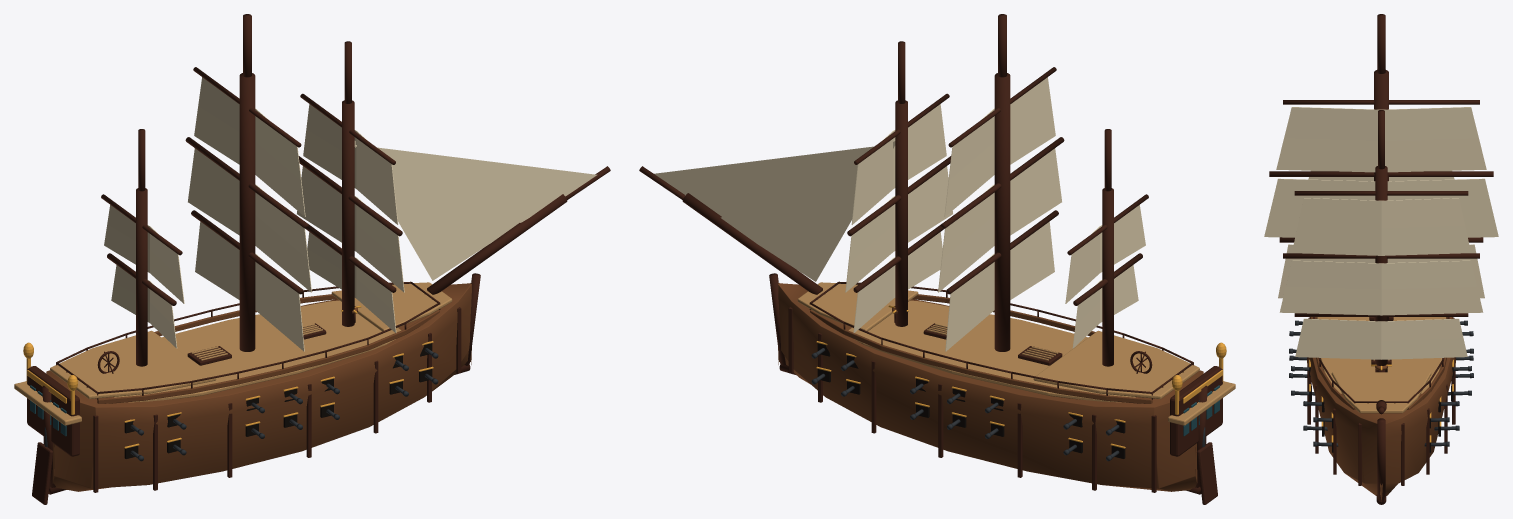
Rendered from AgeOfSailWarship_SecondRate.fbx.
3 renders of one model, left to right at view 1: azimuth 30°, elevation 25°; view 2: azimuth 150°, elevation 25°; view 3: azimuth 270°, elevation 25°, orthographic. The views are drawn at different scales.
Visible parts, largest first — view 1: SecondRate_Hull_Main_Lofted, SecondRate_Deck_Upper_Main, SecondRate_Jib_Inner, SecondRate_Jib_Outer, SecondRate_Deck_Quarterdeck, SecondRate_Main_SquareSail_1, SecondRate_Main_SquareSail_0, SecondRate_Main_SquareSail_2, SecondRate_Main_Mast, SecondRate_Fore_SquareSail_1, SecondRate_Fore_SquareSail_0, SecondRate_Fore_Mast (+14 smaller); view 2: SecondRate_Hull_Main_Lofted, SecondRate_Jib_Inner, SecondRate_Deck_Upper_Main, SecondRate_Jib_Outer, SecondRate_Deck_Quarterdeck, SecondRate_Main_SquareSail_1, SecondRate_Main_SquareSail_0, SecondRate_Main_SquareSail_2, SecondRate_Main_Mast, SecondRate_Fore_SquareSail_1, SecondRate_Fore_SquareSail_0, SecondRate_Fore_Mast (+14 smaller); view 3: SecondRate_Main_SquareSail_0, SecondRate_Fore_SquareSail_1, SecondRate_Fore_SquareSail_0, SecondRate_Hull_Main_Lofted, SecondRate_Fore_SquareSail_2, SecondRate_Main_SquareSail_1, SecondRate_Deck_Forecastle, SecondRate_Deck_Upper_Main, SecondRate_Main_SquareSail_2, SecondRate_Main_Yard_1, SecondRate_Fore_Yard_1, SecondRate_Main_Yard_0 (+10 smaller).
Boxes of the visible parts, <box> form: SecondRate_Hull_Main_Lofted: <box>46,283,471,491</box>; SecondRate_Deck_Upper_Main: <box>114,300,401,402</box>; SecondRate_Jib_Inner: <box>354,141,519,280</box>; SecondRate_Jib_Outer: <box>354,145,597,222</box>; SecondRate_Deck_Quarterdeck: <box>50,330,216,399</box>; SecondRate_Main_SquareSail_1: <box>188,148,311,292</box>; SecondRate_Main_SquareSail_0: <box>194,77,305,216</box>; SecondRate_Main_SquareSail_2: <box>195,221,304,351</box>; SecondRate_Main_Mast: <box>239,73,255,351</box>; SecondRate_Fore_SquareSail_1: <box>297,166,404,292</box>; SecondRate_Fore_SquareSail_0: <box>303,104,398,224</box>; SecondRate_Fore_Mast: <box>342,100,354,326</box>; SecondRate_Hull_Main_Lofted: <box>778,283,1203,491</box>; SecondRate_Jib_Inner: <box>720,141,895,281</box>; SecondRate_Deck_Upper_Main: <box>848,300,1135,402</box>; SecondRate_Jib_Outer: <box>654,146,873,216</box>; SecondRate_Deck_Quarterdeck: <box>1033,330,1199,399</box>; SecondRate_Main_SquareSail_1: <box>938,148,1061,292</box>; SecondRate_Main_SquareSail_0: <box>944,77,1055,216</box>; SecondRate_Main_SquareSail_2: <box>945,221,1054,351</box>; SecondRate_Main_Mast: <box>994,73,1010,351</box>; SecondRate_Fore_SquareSail_1: <box>845,166,952,292</box>; SecondRate_Fore_SquareSail_0: <box>851,104,946,224</box>; SecondRate_Fore_Mast: <box>895,100,907,326</box>; SecondRate_Main_SquareSail_0: <box>1276,107,1486,172</box>; SecondRate_Fore_SquareSail_1: <box>1279,260,1483,315</box>; SecondRate_Fore_SquareSail_0: <box>1292,198,1470,255</box>; SecondRate_Hull_Main_Lofted: <box>1307,317,1455,501</box>; SecondRate_Fore_SquareSail_2: <box>1295,318,1467,359</box>; SecondRate_Main_SquareSail_1: <box>1264,178,1498,237</box>; SecondRate_Deck_Forecastle: <box>1331,372,1431,413</box>; SecondRate_Deck_Upper_Main: <box>1317,317,1445,393</box>; SecondRate_Main_SquareSail_2: <box>1278,244,1484,298</box>; SecondRate_Main_Yard_1: <box>1269,171,1493,176</box>; SecondRate_Fore_Yard_1: <box>1283,253,1479,258</box>; SecondRate_Main_Yard_0: <box>1283,100,1479,104</box>.
Size of the model in its own units: 3195 by 2326 by 1197.
